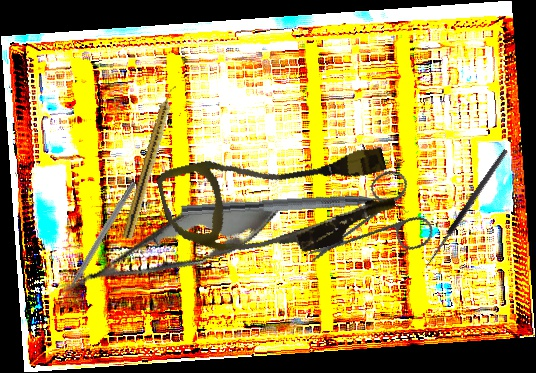Cannula: (154, 118, 402, 283)
Chopper: (180, 189, 410, 231)
Handpiece: (121, 83, 180, 241)
Hook Surgical: (422, 147, 515, 275), (59, 179, 137, 303)
Iris Scissors: (304, 154, 448, 294)
Micro Scissor: (49, 178, 291, 317)
